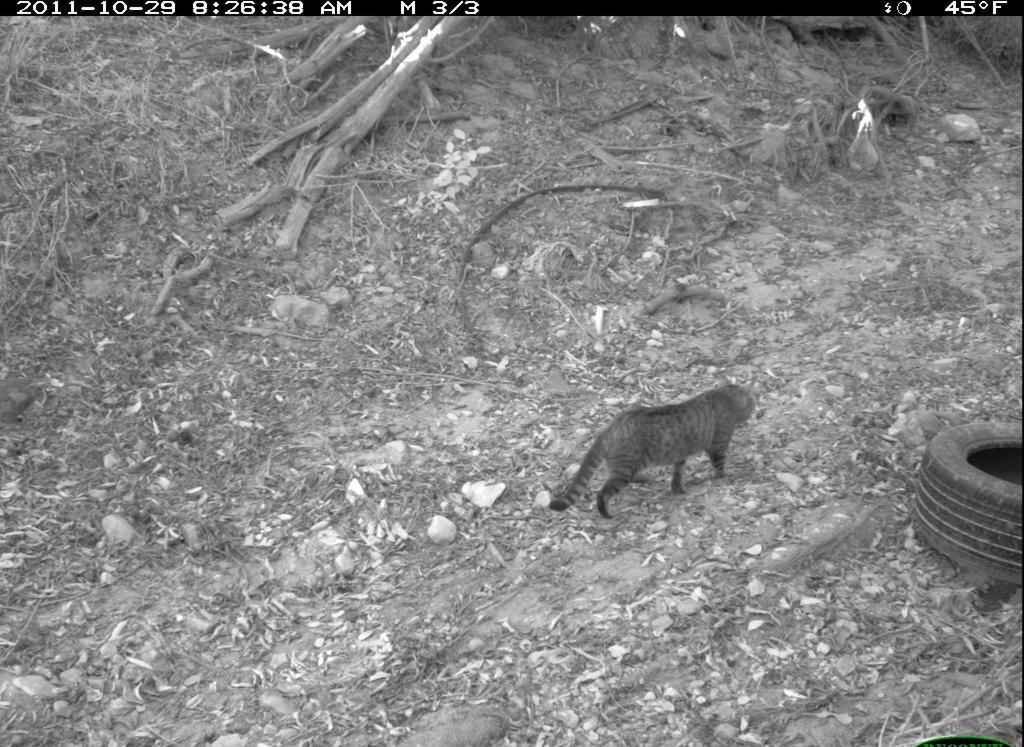cat: (538, 373, 785, 537)
